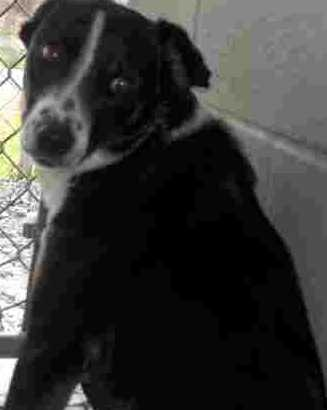Dog: (4, 2, 321, 409)
